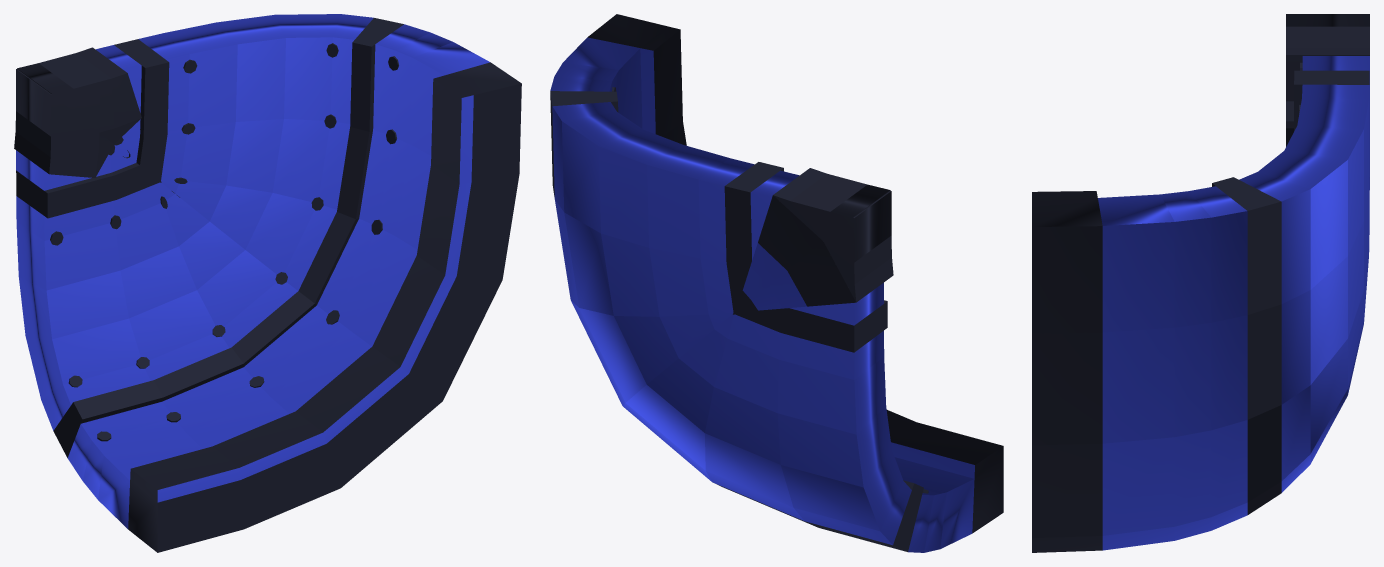
File: Roof_Corner.fbx
3 views of the same model, side by side, from view 1: azimuth 30°, elevation 25°; view 2: azimuth 150°, elevation 25°; view 3: azimuth 270°, elevation 25° (orthographic). The views are drawn at different scales.
Parts seen in each view (by area): view 1: Roof Corner; view 2: Roof Corner; view 3: Roof Corner.
Boxes of the visible parts, x1,y1,x2,y2 form: Roof Corner: (14,14,521,552); Roof Corner: (550,14,1003,552); Roof Corner: (1032,14,1369,552).
Bounding box in the file's own units: 150 × 150 × 100.
